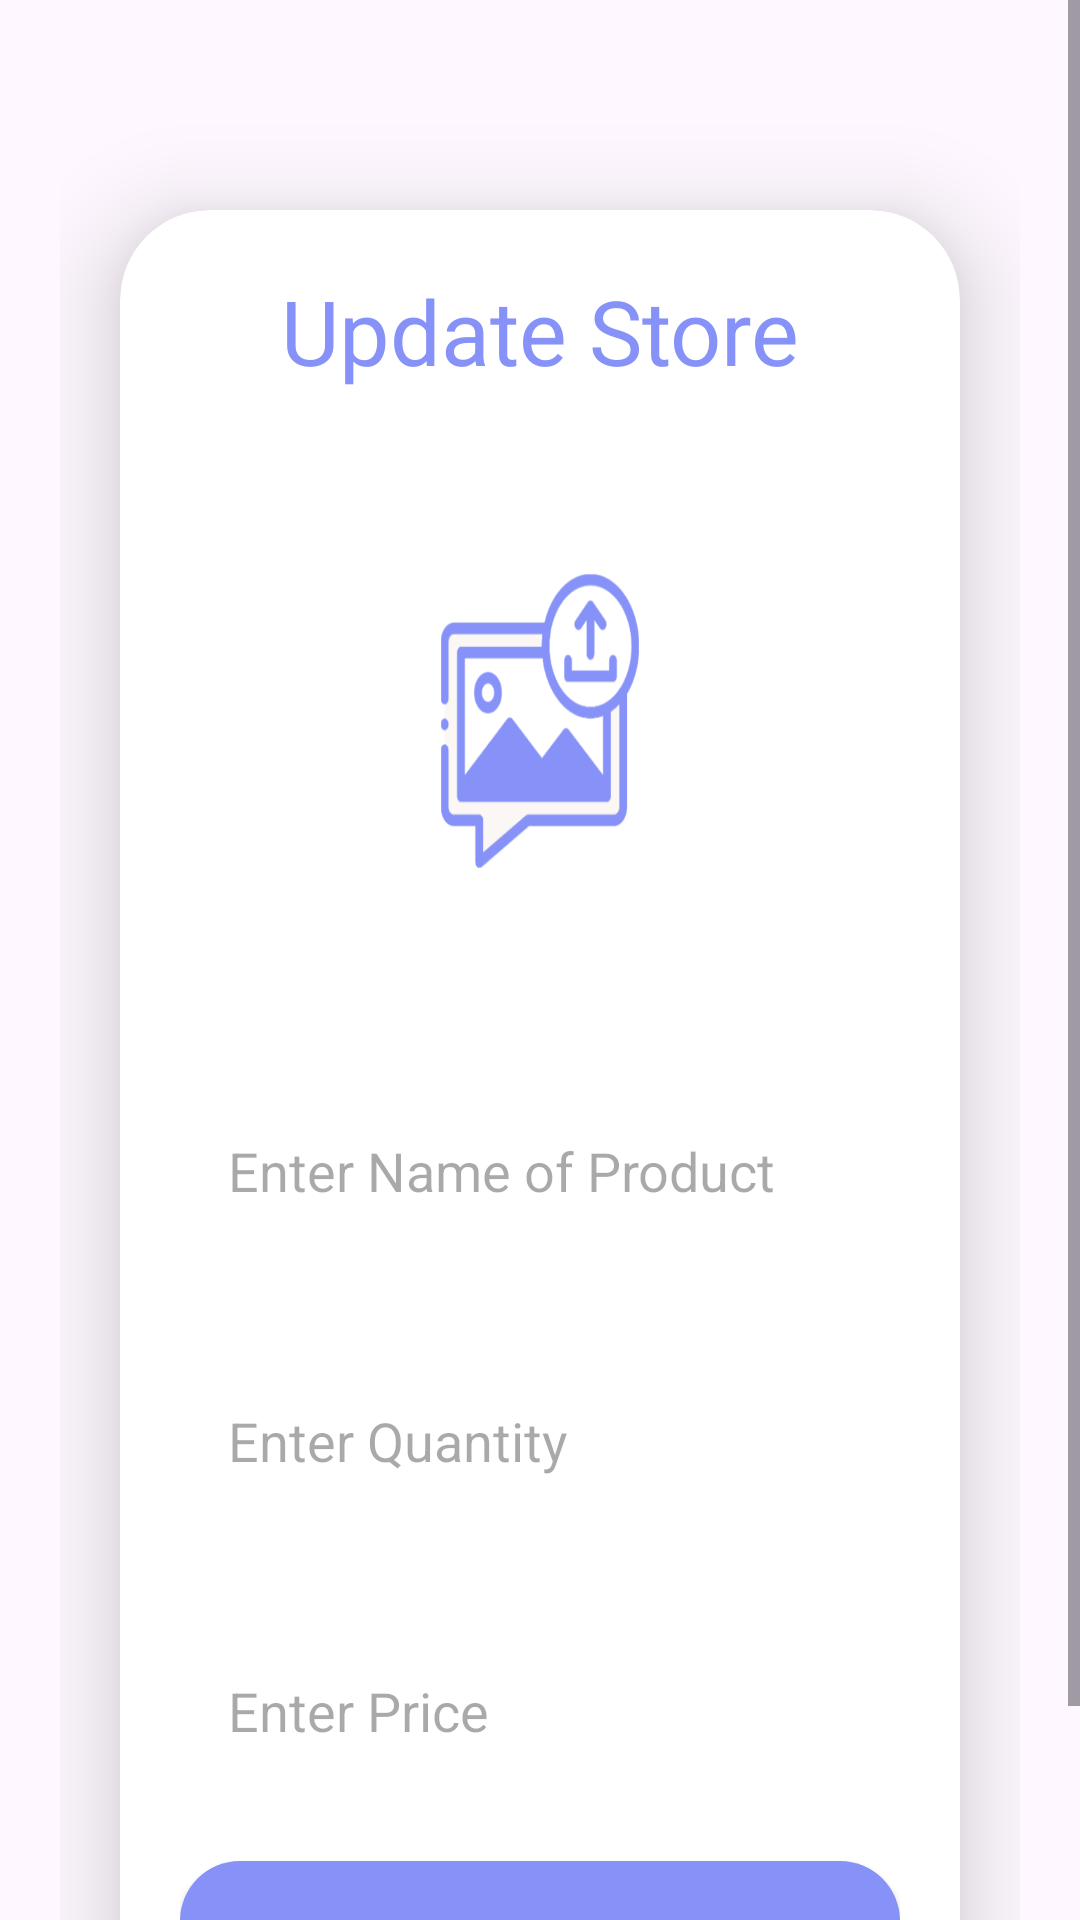

Named icons in this screenshot (1080px×1920px) and their bounding boxes, region(x1, y1, x2, y2):
uploadimg: region(441, 574, 639, 868)
